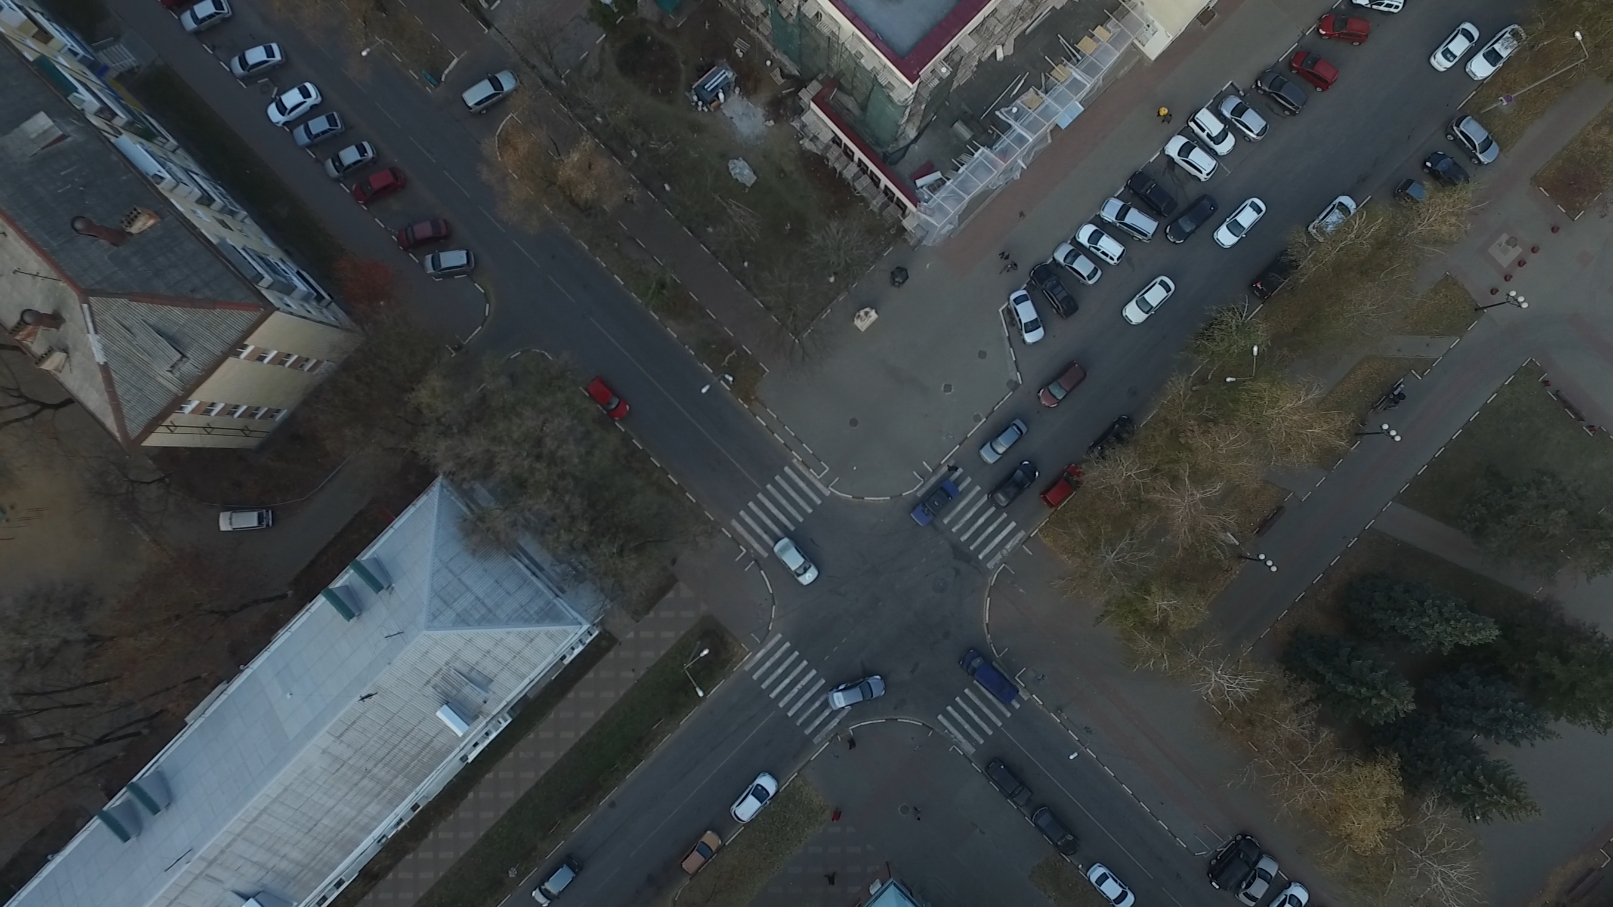car: (1463, 17, 1525, 84), (954, 643, 1019, 707), (1169, 184, 1226, 244), (1210, 194, 1268, 251), (525, 854, 587, 907), (461, 66, 527, 115), (1447, 111, 1501, 169), (1225, 97, 1280, 154), (1102, 197, 1162, 248), (905, 483, 960, 537), (1121, 270, 1177, 324), (1167, 141, 1224, 193), (1026, 261, 1077, 320), (727, 769, 777, 828), (1251, 245, 1299, 306), (261, 80, 323, 127), (1206, 834, 1260, 888), (1052, 241, 1106, 296), (1307, 186, 1358, 243), (982, 471, 1031, 527), (1432, 21, 1484, 74), (1422, 150, 1472, 204), (1025, 807, 1073, 863), (1085, 418, 1136, 470), (345, 163, 411, 203), (978, 418, 1026, 473), (1286, 47, 1342, 94), (1130, 174, 1181, 225), (1191, 115, 1243, 165), (1256, 73, 1308, 123), (984, 757, 1031, 812), (392, 215, 458, 254), (316, 138, 376, 181), (823, 674, 887, 713), (771, 539, 820, 590), (1006, 291, 1049, 347), (1396, 173, 1439, 228), (220, 45, 286, 82), (1039, 365, 1090, 411), (587, 369, 631, 418), (1038, 465, 1082, 514), (1077, 868, 1131, 907), (289, 112, 345, 150), (1076, 220, 1123, 264), (682, 829, 725, 878), (1235, 860, 1277, 907), (1354, 1, 1419, 28), (1321, 16, 1371, 49), (179, 1, 233, 32), (216, 506, 273, 535), (427, 244, 480, 271)
